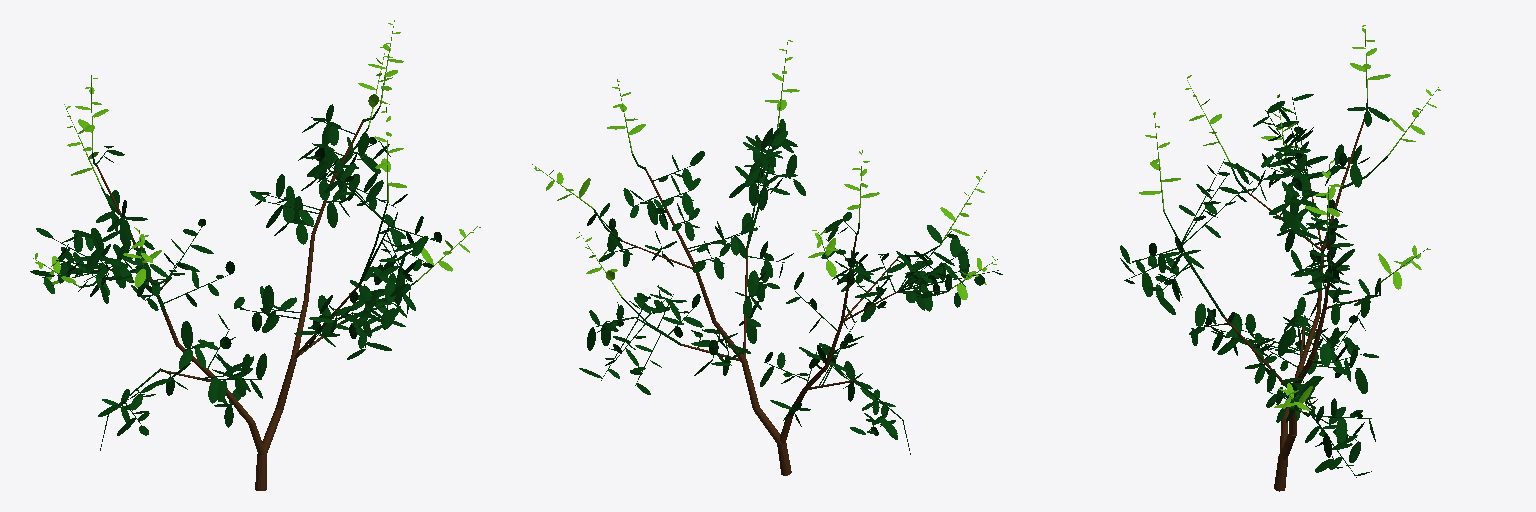
The robot description file, URDF, robot "scan_guided_citrus_snapshot":
<?xml version='1.0' encoding='utf-8'?>
<robot name="scan_guided_citrus_snapshot">
  <link name="tree_base" />
  <link name="tree_static">
    <visual>
      <geometry>
        <mesh filename="package://citrus_pruning_sim/meshes/static.dae" scale="1 1 1" />
      </geometry>
    </visual>
    <collision>
      <geometry>
        <mesh filename="package://citrus_pruning_sim/meshes/static_collision.stl" scale="1 1 1" />
      </geometry>
    </collision>
  </link>
  <joint name="tree_static_fixed" type="fixed">
    <parent link="tree_base" />
    <child link="tree_static" />
  </joint>
  <link name="tree_S01">
    <visual>
      <geometry>
        <mesh filename="package://citrus_pruning_sim/meshes/S01.dae" scale="1 1 1" />
      </geometry>
    </visual>
    <collision>
      <geometry>
        <mesh filename="package://citrus_pruning_sim/meshes/S01_collision.stl" scale="1 1 1" />
      </geometry>
    </collision>
  </link>
  <joint name="tree_S01_fixed" type="fixed">
    <parent link="tree_base" />
    <child link="tree_S01" />
  </joint>
  <link name="tree_S02">
    <visual>
      <geometry>
        <mesh filename="package://citrus_pruning_sim/meshes/S02.dae" scale="1 1 1" />
      </geometry>
    </visual>
    <collision>
      <geometry>
        <mesh filename="package://citrus_pruning_sim/meshes/S02_collision.stl" scale="1 1 1" />
      </geometry>
    </collision>
  </link>
  <joint name="tree_S02_fixed" type="fixed">
    <parent link="tree_base" />
    <child link="tree_S02" />
  </joint>
  <link name="tree_S03">
    <visual>
      <geometry>
        <mesh filename="package://citrus_pruning_sim/meshes/S03.dae" scale="1 1 1" />
      </geometry>
    </visual>
    <collision>
      <geometry>
        <mesh filename="package://citrus_pruning_sim/meshes/S03_collision.stl" scale="1 1 1" />
      </geometry>
    </collision>
  </link>
  <joint name="tree_S03_fixed" type="fixed">
    <parent link="tree_base" />
    <child link="tree_S03" />
  </joint>
  <link name="tree_S04">
    <visual>
      <geometry>
        <mesh filename="package://citrus_pruning_sim/meshes/S04.dae" scale="1 1 1" />
      </geometry>
    </visual>
    <collision>
      <geometry>
        <mesh filename="package://citrus_pruning_sim/meshes/S04_collision.stl" scale="1 1 1" />
      </geometry>
    </collision>
  </link>
  <joint name="tree_S04_fixed" type="fixed">
    <parent link="tree_base" />
    <child link="tree_S04" />
  </joint>
  <link name="tree_S05">
    <visual>
      <geometry>
        <mesh filename="package://citrus_pruning_sim/meshes/S05.dae" scale="1 1 1" />
      </geometry>
    </visual>
    <collision>
      <geometry>
        <mesh filename="package://citrus_pruning_sim/meshes/S05_collision.stl" scale="1 1 1" />
      </geometry>
    </collision>
  </link>
  <joint name="tree_S05_fixed" type="fixed">
    <parent link="tree_base" />
    <child link="tree_S05" />
  </joint>
  <link name="tree_S06">
    <visual>
      <geometry>
        <mesh filename="package://citrus_pruning_sim/meshes/S06.dae" scale="1 1 1" />
      </geometry>
    </visual>
    <collision>
      <geometry>
        <mesh filename="package://citrus_pruning_sim/meshes/S06_collision.stl" scale="1 1 1" />
      </geometry>
    </collision>
  </link>
  <joint name="tree_S06_fixed" type="fixed">
    <parent link="tree_base" />
    <child link="tree_S06" />
  </joint>
  <link name="tree_S07">
    <visual>
      <geometry>
        <mesh filename="package://citrus_pruning_sim/meshes/S07.dae" scale="1 1 1" />
      </geometry>
    </visual>
    <collision>
      <geometry>
        <mesh filename="package://citrus_pruning_sim/meshes/S07_collision.stl" scale="1 1 1" />
      </geometry>
    </collision>
  </link>
  <joint name="tree_S07_fixed" type="fixed">
    <parent link="tree_base" />
    <child link="tree_S07" />
  </joint>
  <link name="tree_S08">
    <visual>
      <geometry>
        <mesh filename="package://citrus_pruning_sim/meshes/S08.dae" scale="1 1 1" />
      </geometry>
    </visual>
    <collision>
      <geometry>
        <mesh filename="package://citrus_pruning_sim/meshes/S08_collision.stl" scale="1 1 1" />
      </geometry>
    </collision>
  </link>
  <joint name="tree_S08_fixed" type="fixed">
    <parent link="tree_base" />
    <child link="tree_S08" />
  </joint>
</robot>

--- What the picture shows (computed from the rendered views, not written in the file) ---
Views: 3 orthographic renders of the robot side by side, from view 1: azimuth 30°, elevation 25°; view 2: azimuth 150°, elevation 25°; view 3: azimuth 270°, elevation 25°.
Robot: scan_guided_citrus_snapshot — 10 links, 9 joints (9 fixed); root link tree_base; default pose: every joint at zero.
Links seen in each view (by area): view 1: tree_static; view 2: tree_static; view 3: tree_static.
Boxes of the visible links, x1=… form: tree_static: x1=30, y1=104, x2=441, y2=490; tree_static: x1=579, y1=119, x2=1002, y2=475; tree_static: x1=1120, y1=94, x2=1389, y2=491.
Bounding box of the posed robot: 2.06 × 1.28 × 1.79 m (x, y, z).
9 mesh visuals loaded from 9 distinct referenced files (9 Collada DAE).
